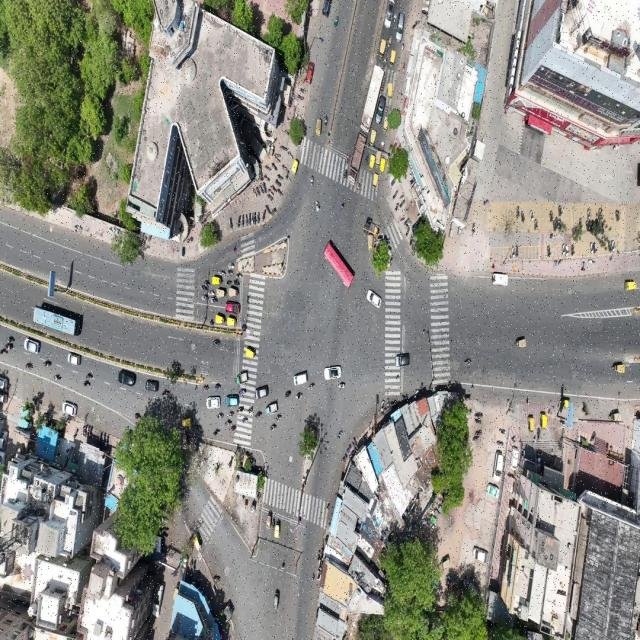3W: (185, 532, 207, 555), (622, 276, 639, 295), (613, 360, 627, 379), (271, 583, 280, 612), (234, 370, 251, 385), (314, 114, 323, 140), (291, 156, 300, 181), (241, 347, 257, 361), (362, 215, 373, 235), (516, 335, 528, 353), (264, 507, 272, 533), (378, 38, 386, 63), (214, 311, 227, 325), (382, 115, 390, 137), (540, 413, 549, 432), (265, 402, 278, 415), (387, 81, 395, 102), (368, 231, 374, 258), (380, 158, 389, 176), (389, 48, 396, 71), (372, 172, 381, 189), (369, 152, 376, 173), (226, 315, 238, 327), (529, 415, 536, 435), (275, 519, 281, 541), (212, 275, 223, 287), (375, 150, 381, 172), (227, 288, 240, 298), (370, 130, 377, 148), (216, 289, 228, 299)
Bus: (30, 302, 89, 340), (322, 240, 355, 294)
Cars: (115, 359, 139, 391), (490, 269, 512, 290), (492, 451, 506, 483), (363, 288, 382, 310), (374, 94, 387, 125), (303, 59, 319, 84), (391, 350, 411, 370), (382, 0, 395, 30), (21, 338, 41, 355), (322, 365, 344, 380), (144, 375, 160, 394), (62, 400, 78, 417), (255, 383, 271, 400), (290, 371, 310, 384), (224, 299, 241, 314), (397, 13, 405, 44), (66, 353, 82, 367), (206, 397, 222, 410), (224, 395, 239, 407)
M2W: (607, 236, 617, 255), (336, 425, 345, 443), (482, 194, 491, 210), (614, 208, 622, 225), (464, 356, 474, 369), (200, 381, 209, 395), (282, 389, 292, 401), (334, 13, 342, 28), (473, 407, 485, 417), (597, 205, 605, 220), (309, 172, 316, 189), (315, 199, 322, 216), (25, 359, 34, 372), (398, 189, 407, 202), (364, 151, 371, 167), (281, 128, 292, 138), (213, 379, 222, 391), (215, 409, 224, 421), (268, 422, 277, 434), (308, 381, 317, 393), (498, 424, 507, 436), (577, 212, 583, 230), (287, 149, 295, 162), (403, 227, 411, 240), (340, 167, 348, 180), (310, 569, 316, 586), (228, 216, 234, 233), (510, 242, 516, 259), (546, 242, 552, 259), (548, 208, 554, 225), (81, 380, 91, 390), (6, 333, 16, 343), (337, 380, 347, 390), (496, 438, 506, 448), (295, 390, 303, 402), (323, 113, 329, 129), (520, 209, 526, 225), (516, 202, 521, 221), (586, 207, 593, 220), (385, 104, 392, 117), (43, 358, 52, 368), (53, 374, 63, 383), (86, 370, 95, 380), (6, 343, 16, 352), (239, 387, 248, 397), (211, 428, 220, 438), (255, 409, 264, 419), (251, 186, 257, 201), (279, 142, 288, 152), (295, 94, 304, 104), (473, 417, 483, 426), (470, 223, 476, 238), (565, 240, 570, 258), (338, 202, 346, 213), (529, 207, 534, 224), (0, 345, 7, 357), (261, 209, 267, 223), (392, 187, 399, 199), (400, 41, 407, 53), (381, 57, 388, 69), (211, 338, 220, 347), (227, 408, 236, 417), (199, 283, 208, 292), (271, 514, 275, 534), (230, 424, 238, 434), (253, 211, 258, 227), (273, 156, 281, 166), (298, 84, 306, 94), (536, 425, 541, 441), (571, 242, 576, 258), (262, 182, 268, 195), (557, 204, 563, 217), (356, 181, 362, 194), (271, 183, 278, 194), (594, 241, 599, 256), (381, 138, 386, 153), (247, 406, 255, 415), (237, 406, 246, 414), (200, 294, 208, 303), (227, 269, 236, 277), (264, 164, 273, 172), (515, 240, 519, 258), (345, 151, 351, 163), (380, 81, 386, 93), (242, 415, 249, 425), (217, 269, 227, 276), (277, 172, 284, 182), (281, 163, 288, 173), (399, 214, 406, 224), (233, 279, 241, 287), (228, 261, 236, 269), (257, 181, 261, 197), (204, 278, 211, 287), (273, 151, 282, 158), (209, 316, 214, 328), (237, 214, 241, 229), (589, 242, 593, 257), (535, 213, 538, 232), (225, 419, 232, 427), (275, 414, 282, 422), (210, 297, 217, 305), (210, 288, 216, 297), (236, 273, 245, 279), (245, 214, 249, 227), (402, 60, 406, 73), (231, 247, 238, 254), (225, 279, 232, 286), (476, 428, 483, 435), (473, 437, 480, 444), (395, 201, 399, 213), (388, 37, 392, 49), (562, 242, 565, 257), (394, 13, 397, 26)
Truck: (358, 57, 389, 133), (344, 129, 367, 188)
